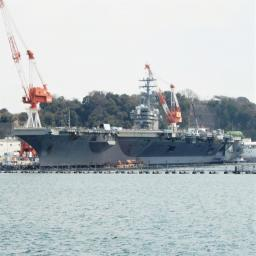Portanaves: (12, 72, 248, 174)
